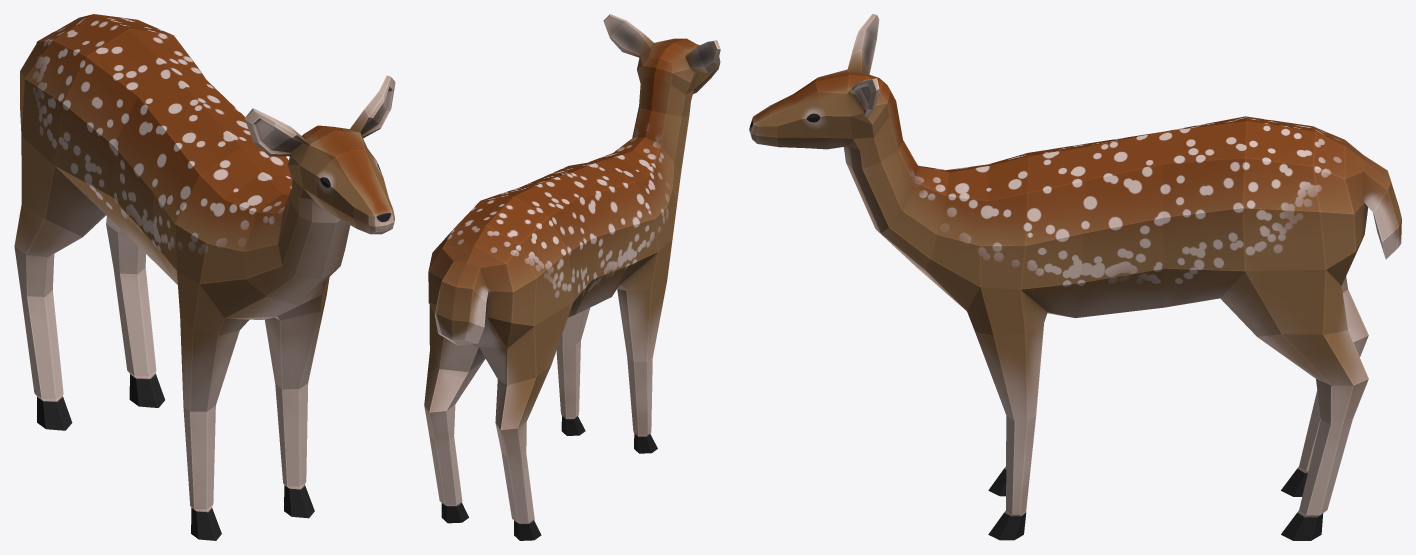
Rendered from MuleDeer.obj.
3 views of the same model, side by side, from view 1: azimuth 30°, elevation 25°; view 2: azimuth 150°, elevation 25°; view 3: azimuth 270°, elevation 25° (orthographic). The views are drawn at different scales.
Parts seen in each view (by area): view 1: MuleDeer_mesh; view 2: MuleDeer_mesh; view 3: MuleDeer_mesh.
Boxes of the visible parts, left/top/right/bottom form: MuleDeer_mesh: left=14, top=14, right=395, bottom=540; MuleDeer_mesh: left=424, top=14, right=720, bottom=540; MuleDeer_mesh: left=749, top=14, right=1401, bottom=540.
Bounding box in the file's own units: 3.42 × 10.34 × 13.13.
1 material, 1 textured.
